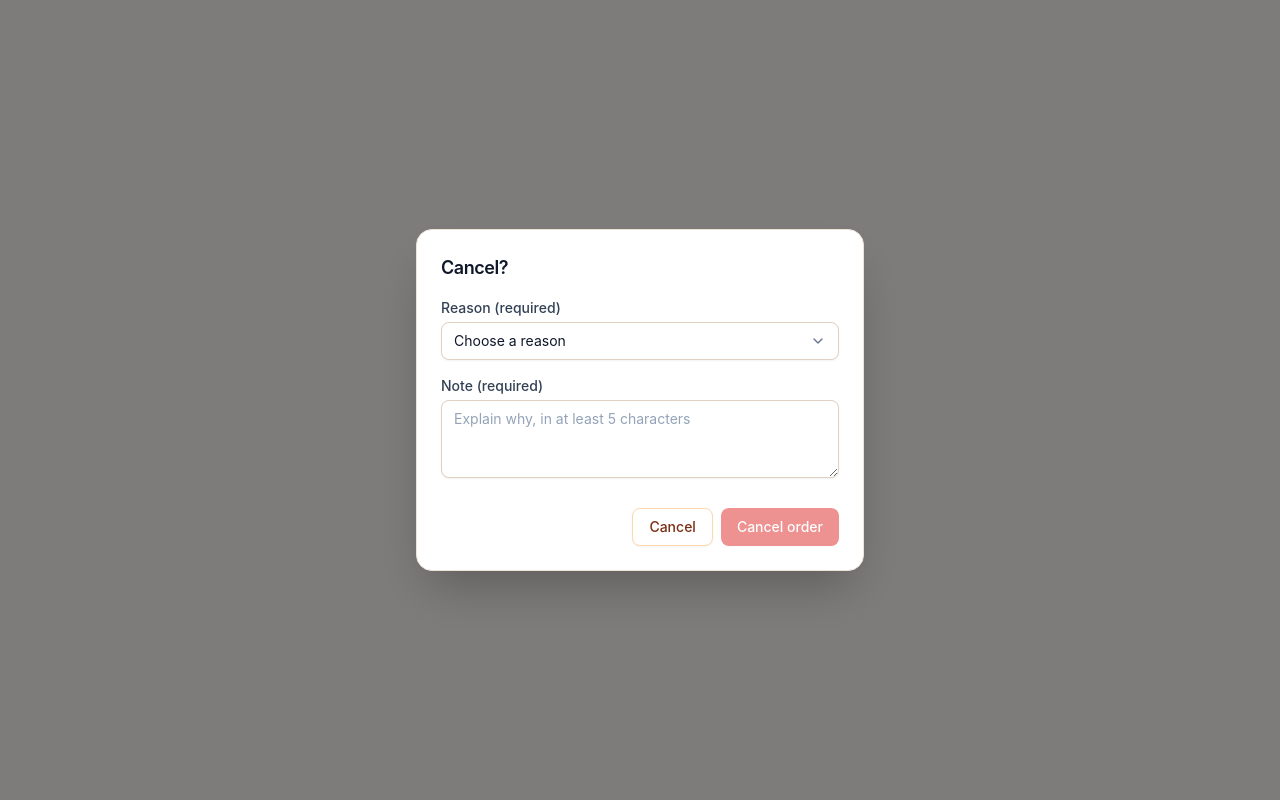
Test: TC-418: ConfirmDialog › requires a reason code when options are supplied
The width and height of the screenshot is (1280, 800).
In the text box labelled "Note (required)": x=640, y=439 441,400 -> 839,478, type "Ingredients ran out"
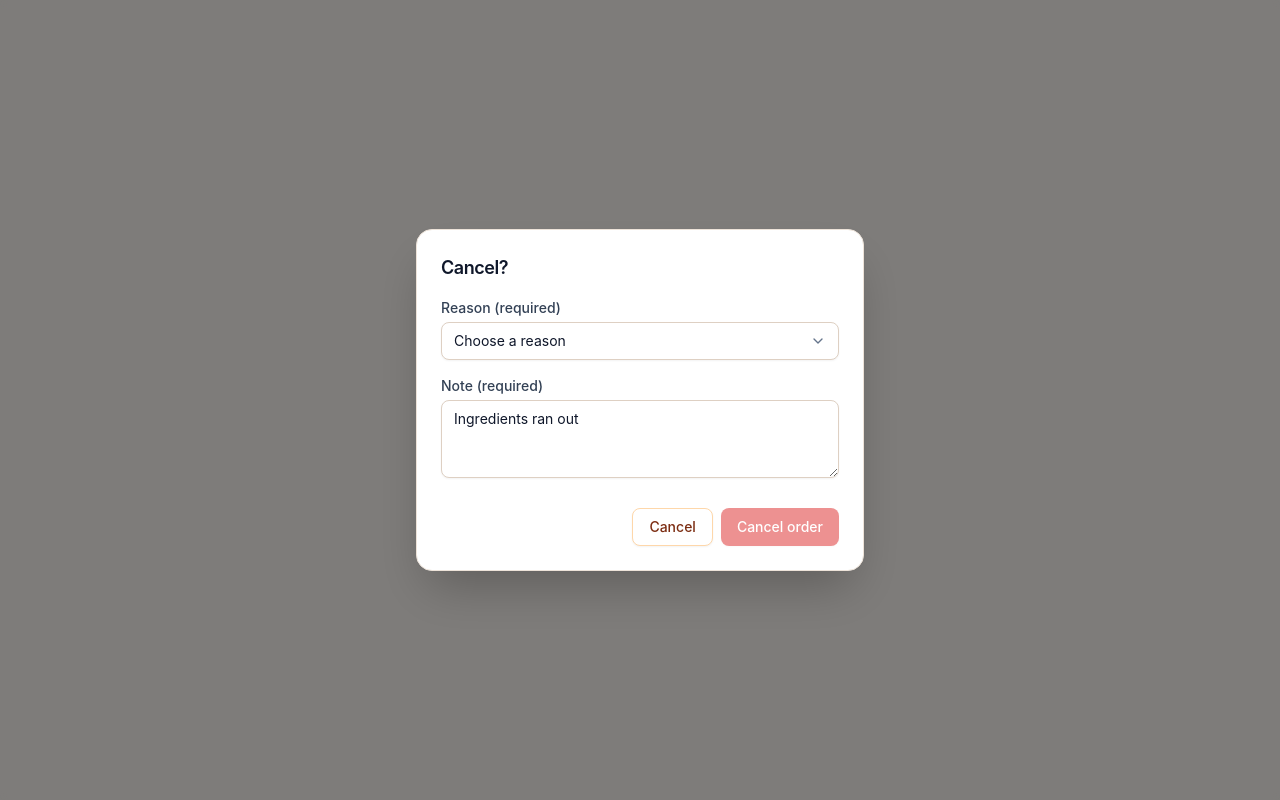
Expected: the button "Cancel order" is disabled, 721,508 -> 839,546
Select "Out of stock" in the dropdown labelled "Reason (required)": x=640, y=341 441,322 -> 839,360
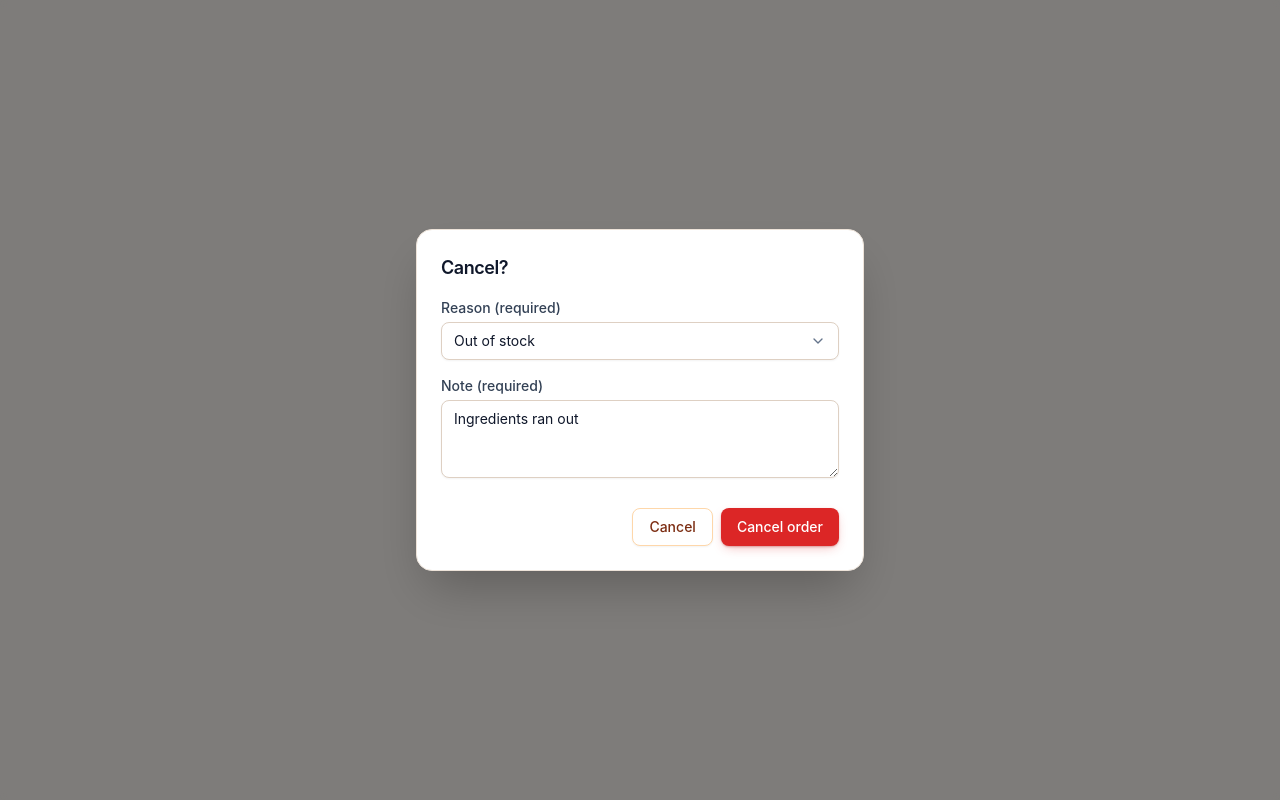
Result: the button "Cancel order" is enabled at 721,508 -> 839,546
